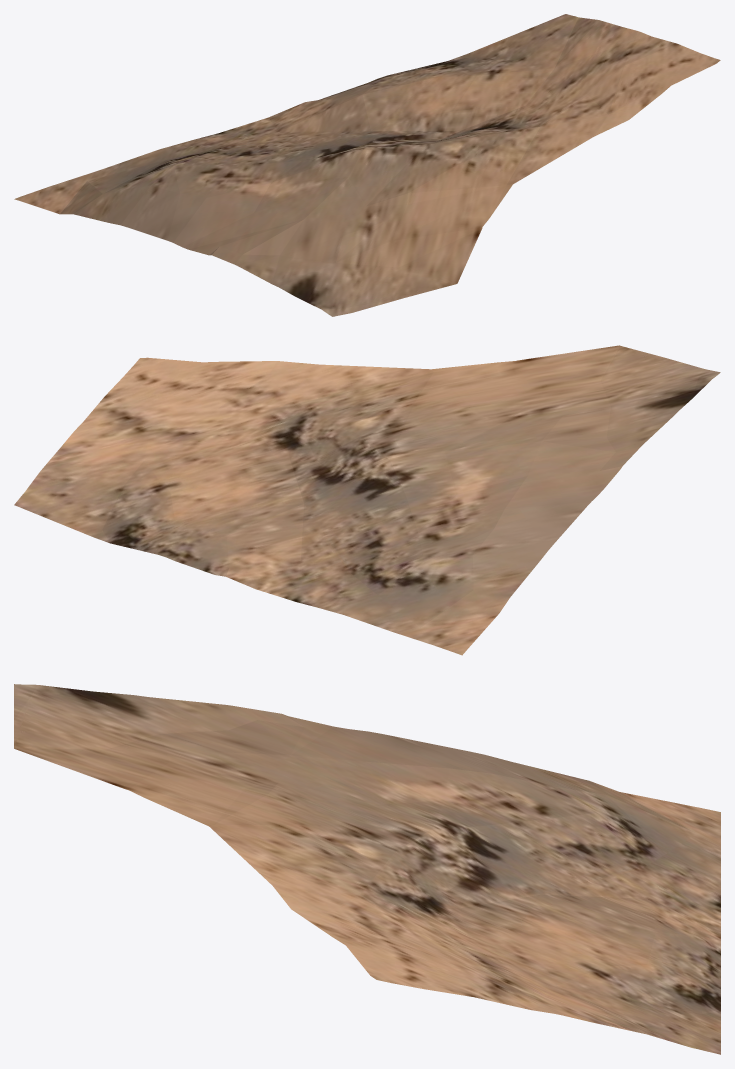
The picture shows the model from 3 angles, top to bottom: view 1: azimuth 30°, elevation 25°; view 2: azimuth 150°, elevation 25°; view 3: azimuth 270°, elevation 25°; orthographic projection. The views are drawn at different scales.
Size of the model in its own units: 1.04 by 0.2136 by 1.04.
Materials: 2 (2 with a texture image).
